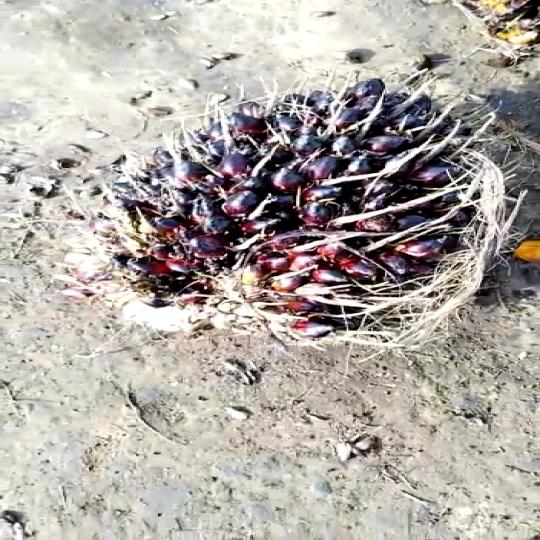mentah: (122, 65, 512, 364)
